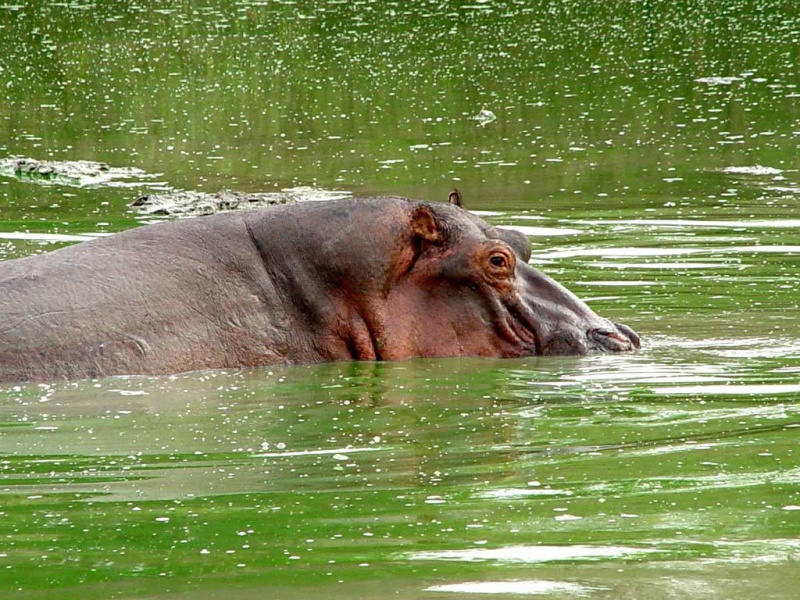hipopotamo: (0, 183, 640, 371)
